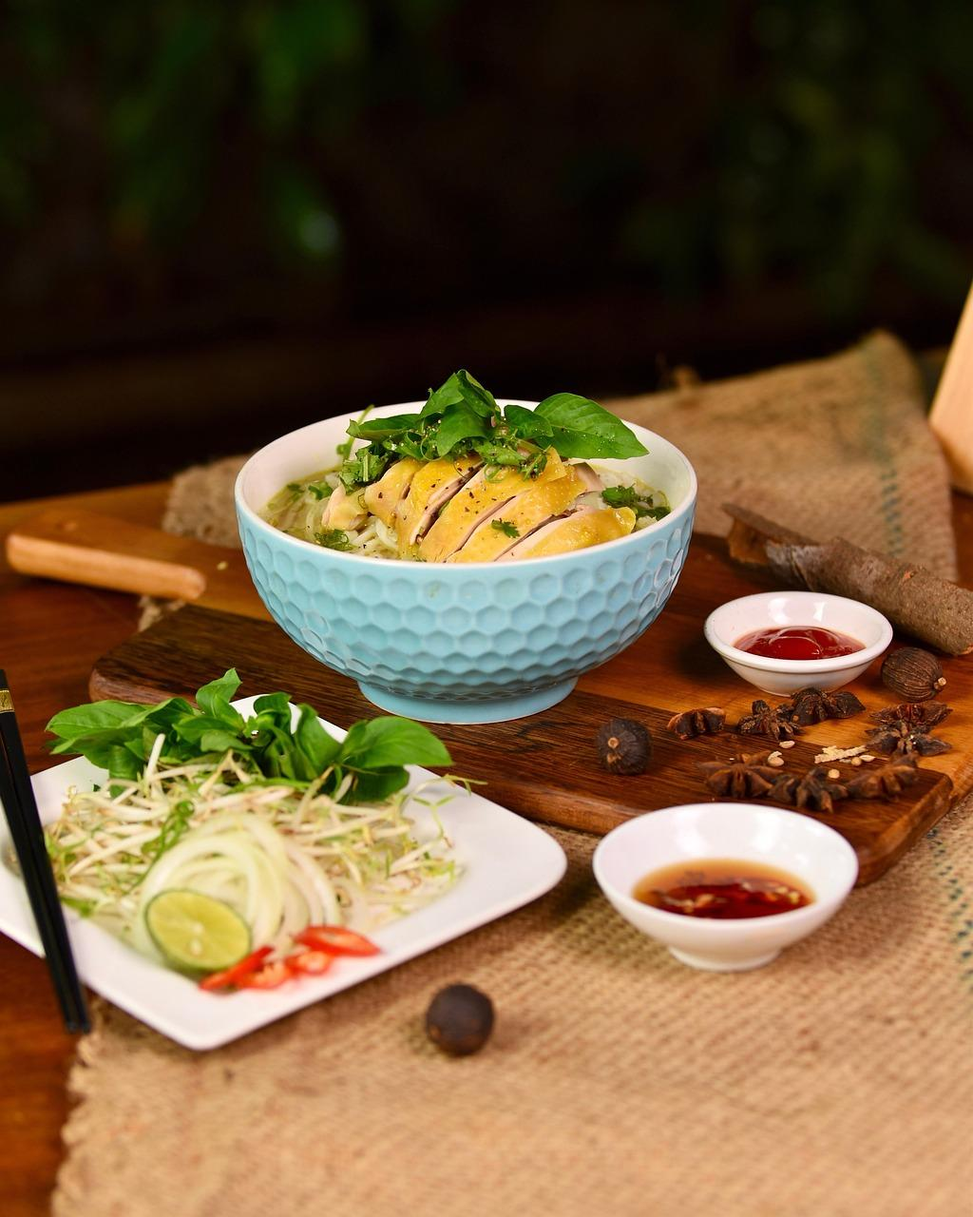Braised Crucian Carp: (7, 689, 563, 1053), (232, 373, 704, 713)
